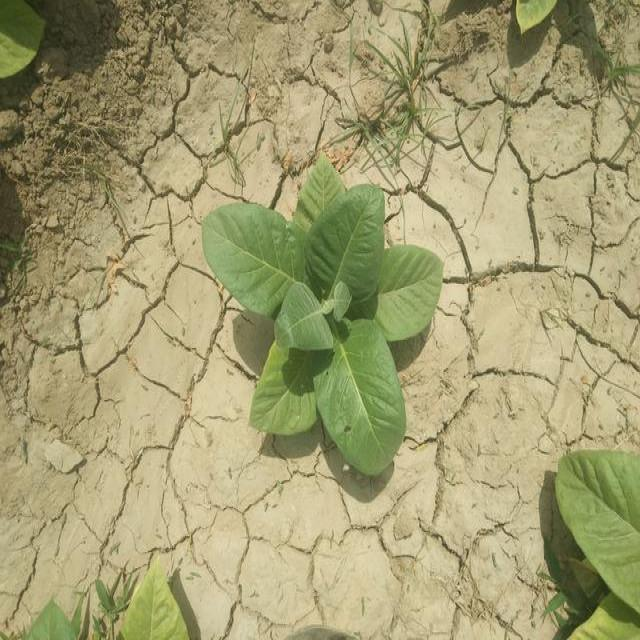crop: (204, 151, 446, 477)
